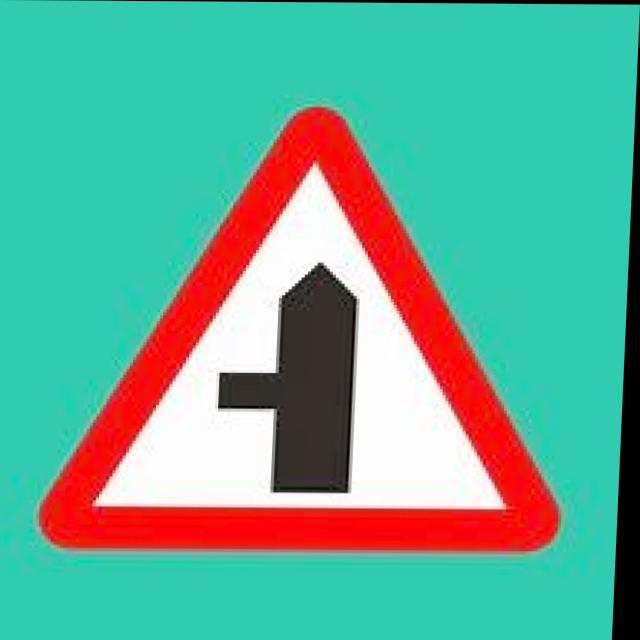SIDE_ROAD_LEFT: (34, 96, 589, 558)
